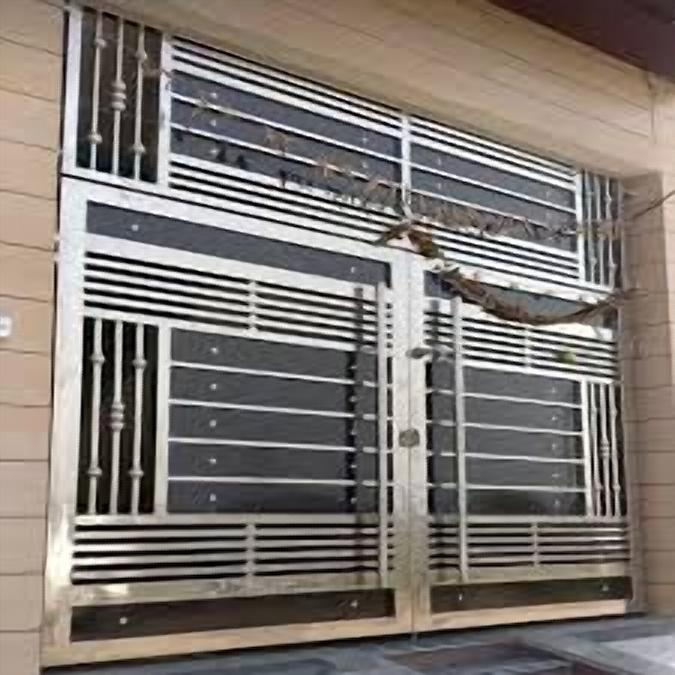Gate: (39, 0, 637, 675)
